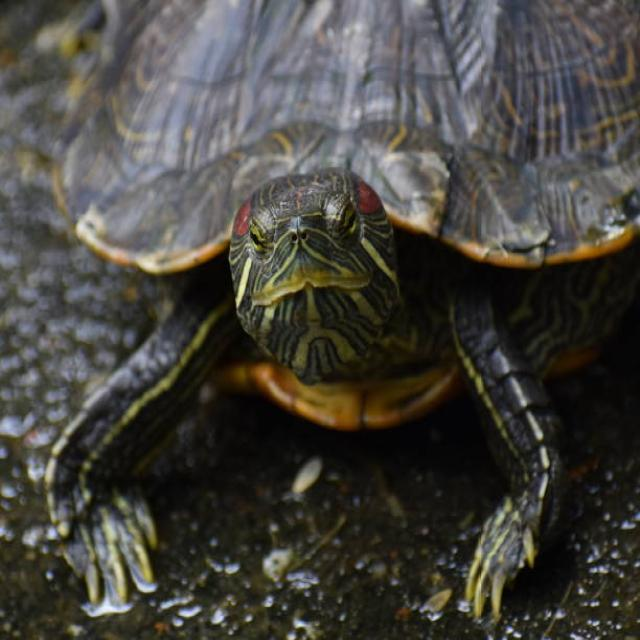terrapin: (28, 0, 640, 457), (18, 286, 239, 614), (419, 256, 583, 633), (210, 163, 426, 374)
